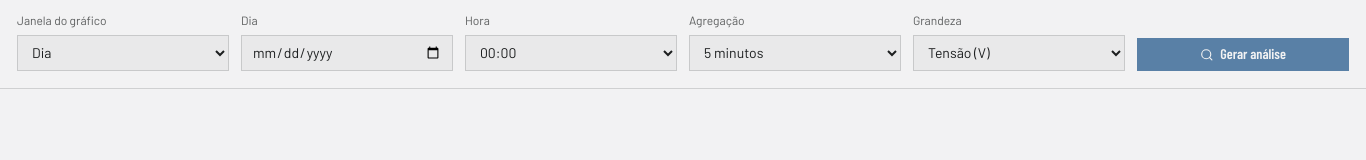
Scenario: SeriesAnalysisForm › trocar hora/agregação e depois voltar para window=dia desabilita e limpa os dois campos
The width and height of the screenshot is (1366, 160).
Step 1. Select "Hora" in the dropdown labelled "Janela do gráfico" → (123, 53), box [17,35,229,71]
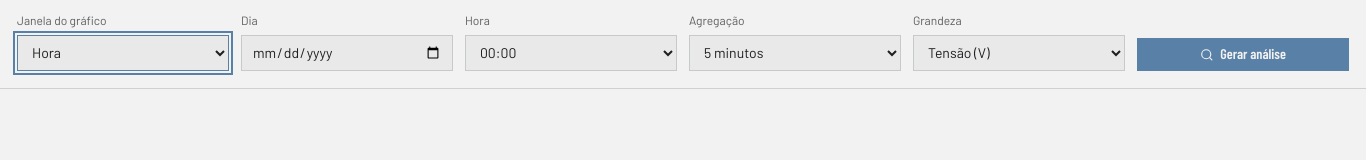
Step 2. Select "14:00" in the dropdown labelled "Hora" → (571, 53), box [465,35,677,71]
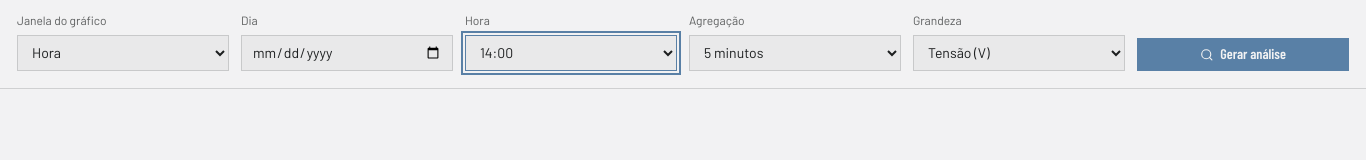
Step 3. Select "15 minutos" in the dropdown labelled "Agregação" → (795, 53), box [689,35,901,71]
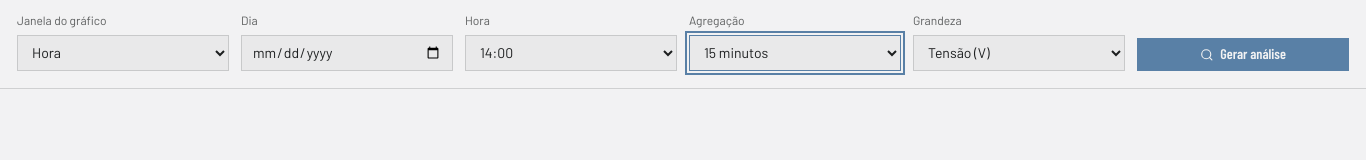
Step 4. Select "Dia" in the dropdown labelled "Janela do gráfico" → (123, 53), box [17,35,229,71]
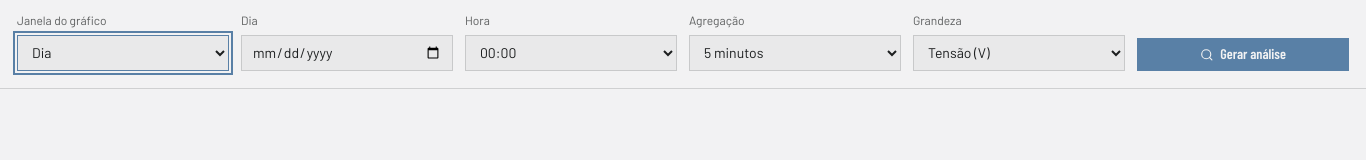
expect the dropdown labelled "Hora" is disabled: met, box [465,35,677,71]
expect the dropdown labelled "Agregação" is disabled: met, box [689,35,901,71]
